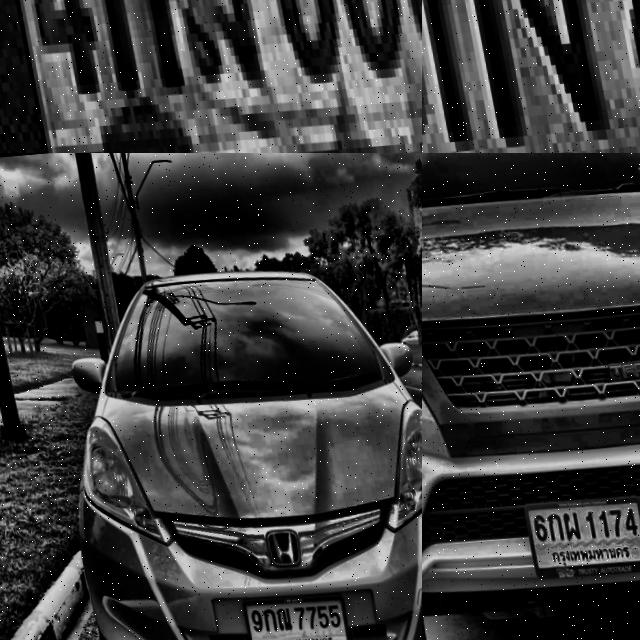license-plate: (0, 0, 422, 153), (422, 0, 640, 153), (507, 489, 640, 586), (226, 586, 344, 640)
